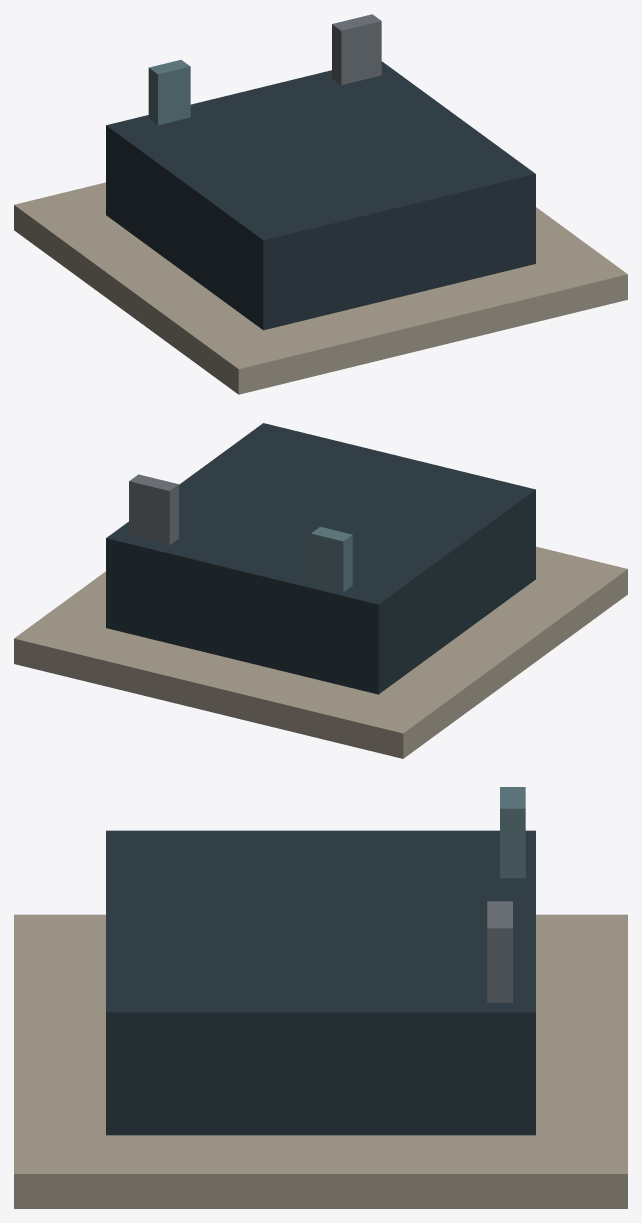
The model's file is tw_landmark_glass_top_lod1.glb.
The picture shows the model from 3 angles, top to bottom: view 1: azimuth 30°, elevation 25°; view 2: azimuth 150°, elevation 25°; view 3: azimuth 270°, elevation 25°; orthographic projection. The views are drawn at different scales.
Visible parts, largest first — view 1: tw_landmark_glass_top_lod1; view 2: tw_landmark_glass_top_lod1; view 3: tw_landmark_glass_top_lod1.
Part boxes in pixels (box(x1,y1,x2,y2)): tw_landmark_glass_top_lod1: box(14, 14, 627, 394); tw_landmark_glass_top_lod1: box(14, 423, 627, 758); tw_landmark_glass_top_lod1: box(14, 787, 627, 1208).
Size of the model in its own units: 24 by 10 by 24.
3 materials, 3 textured.
